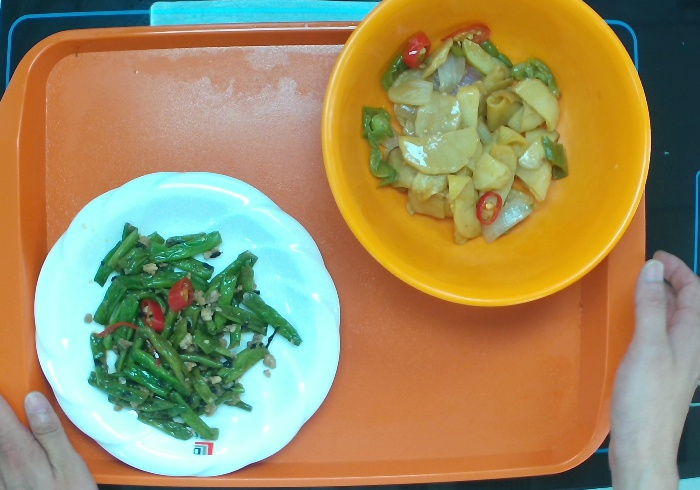ZNLD-Hua_Bian_Wan: (32, 168, 343, 478)
ZNLD-Ju_Se_Tang_Wan: (319, 1, 653, 308)
